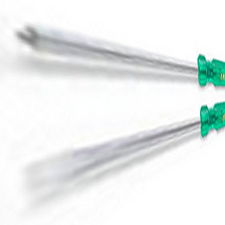Screwdriver: (21, 101, 225, 201), (9, 18, 225, 83)
